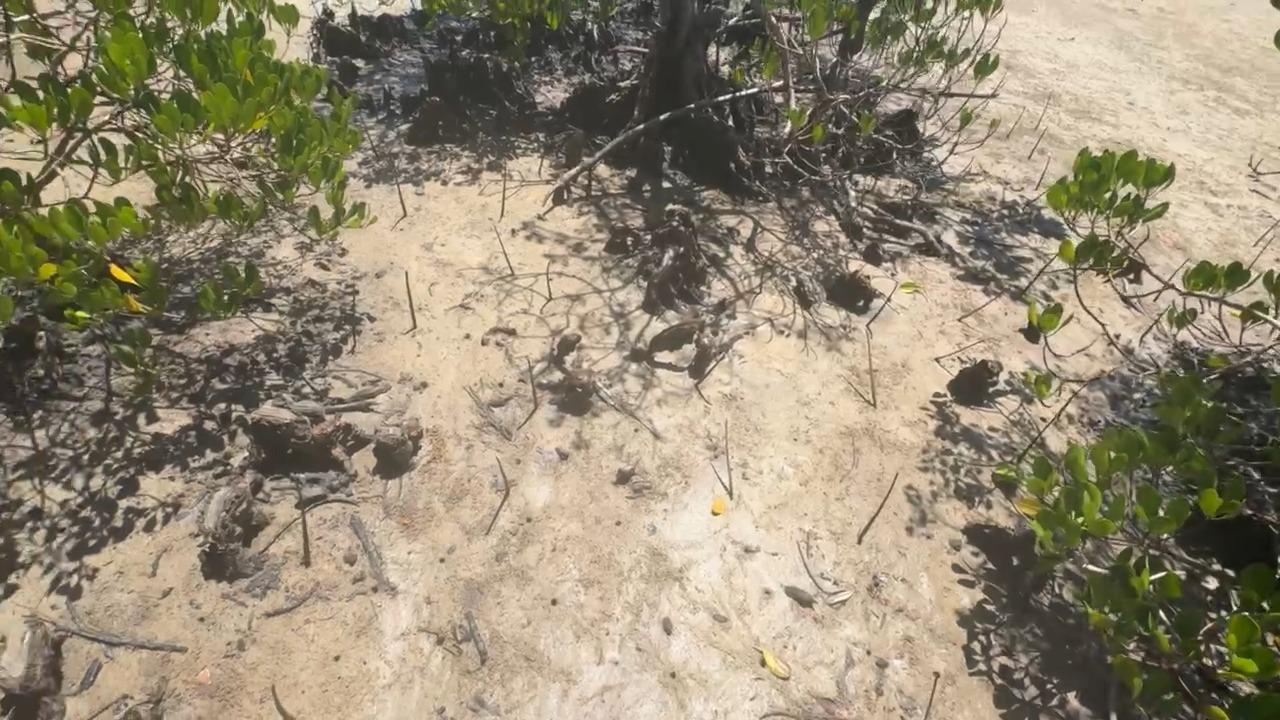Tree: (6, 363, 45, 472), (857, 472, 899, 545), (956, 288, 1010, 322), (1018, 415, 1056, 463), (1153, 258, 1191, 303), (294, 477, 311, 568), (866, 281, 898, 327), (1139, 305, 1172, 348), (694, 348, 730, 386), (493, 223, 516, 276), (358, 110, 381, 161), (1056, 383, 1088, 418), (934, 340, 984, 362), (1248, 234, 1277, 270), (271, 683, 297, 720), (865, 329, 877, 409), (924, 671, 941, 720), (1034, 91, 1053, 132), (725, 417, 734, 501), (1253, 219, 1280, 247), (1027, 126, 1048, 161), (759, 245, 774, 294), (405, 270, 417, 329), (393, 167, 407, 217), (1006, 106, 1027, 139), (527, 358, 539, 411), (496, 456, 510, 496), (1035, 156, 1051, 190), (546, 257, 558, 300), (1022, 191, 1047, 210), (103, 356, 114, 398), (500, 158, 507, 217), (353, 283, 357, 347), (538, 152, 544, 177), (1254, 171, 1280, 175)
